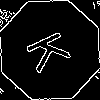K: (25, 25, 80, 75)
